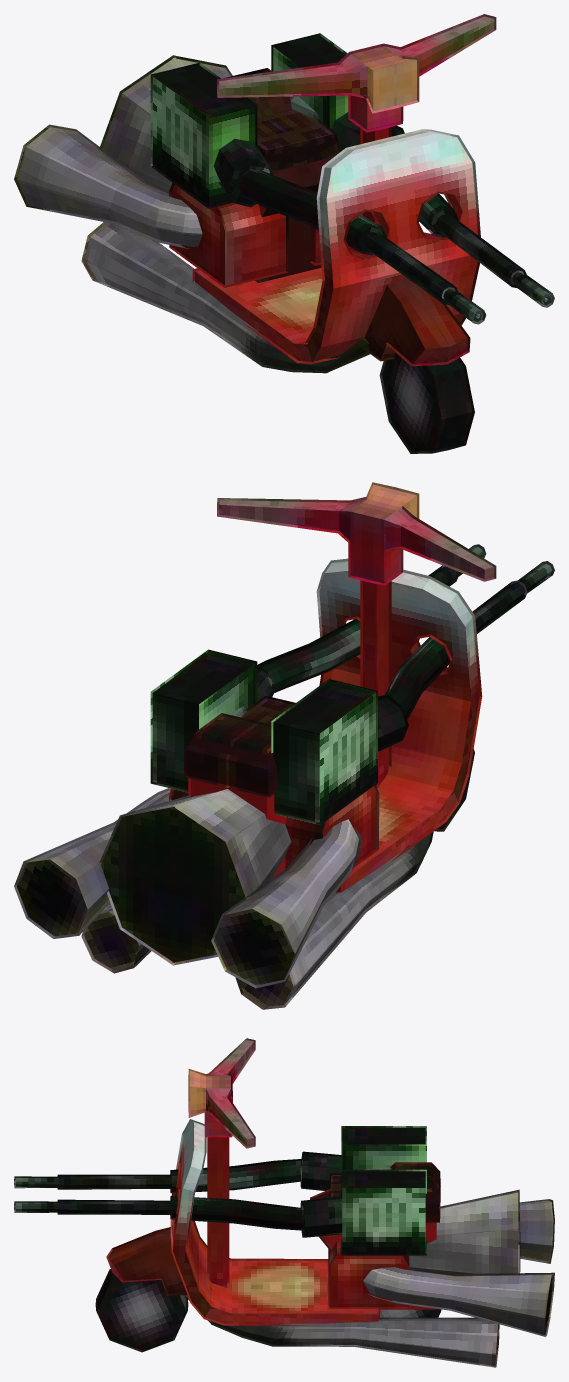
3 views of the same model, one above another, from view 1: azimuth 30°, elevation 25°; view 2: azimuth 150°, elevation 25°; view 3: azimuth 270°, elevation 25° (orthographic). The views are drawn at different scales.
Visible parts, largest first — view 1: Main_Thruster.003, Main_Thruster.002; view 2: Main_Thruster.003, Main_Thruster.002; view 3: Main_Thruster.003, Main_Thruster.002.
Part boxes in pixels (box(x1,y1,x2,y2)): Main_Thruster.003: box(17, 16, 551, 451); Main_Thruster.002: box(14, 14, 554, 453); Main_Thruster.003: box(17, 484, 552, 1006); Main_Thruster.002: box(14, 482, 554, 1009); Main_Thruster.003: box(15, 1040, 553, 1365); Main_Thruster.002: box(14, 1038, 554, 1367).
Size of the model in its own units: 3.87 by 4.76 by 8.64.
1 material, 1 textured.
